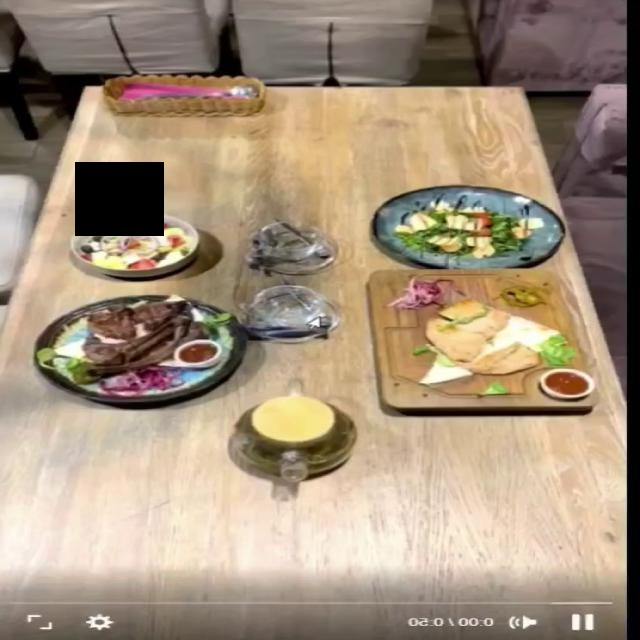meat: (371, 270, 597, 409), (31, 293, 250, 403)
salad: (374, 184, 565, 267), (68, 211, 202, 276)
tea: (232, 396, 357, 479)
